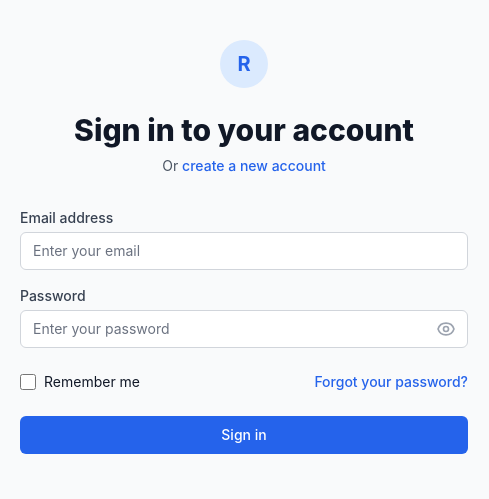
Test case: LoginPage › shows validation errors for invalid input
The image size is (489, 499).
Click the button "Sign in": (244, 435) [20, 416, 468, 454]
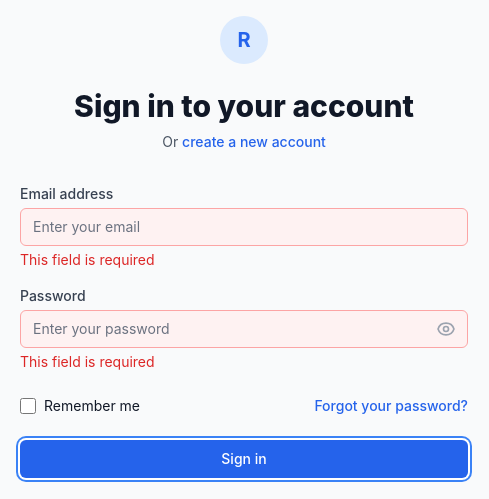
Expected: the text "This field is required" is shown 2 times, [20, 251, 155, 268]; [20, 353, 155, 370]
